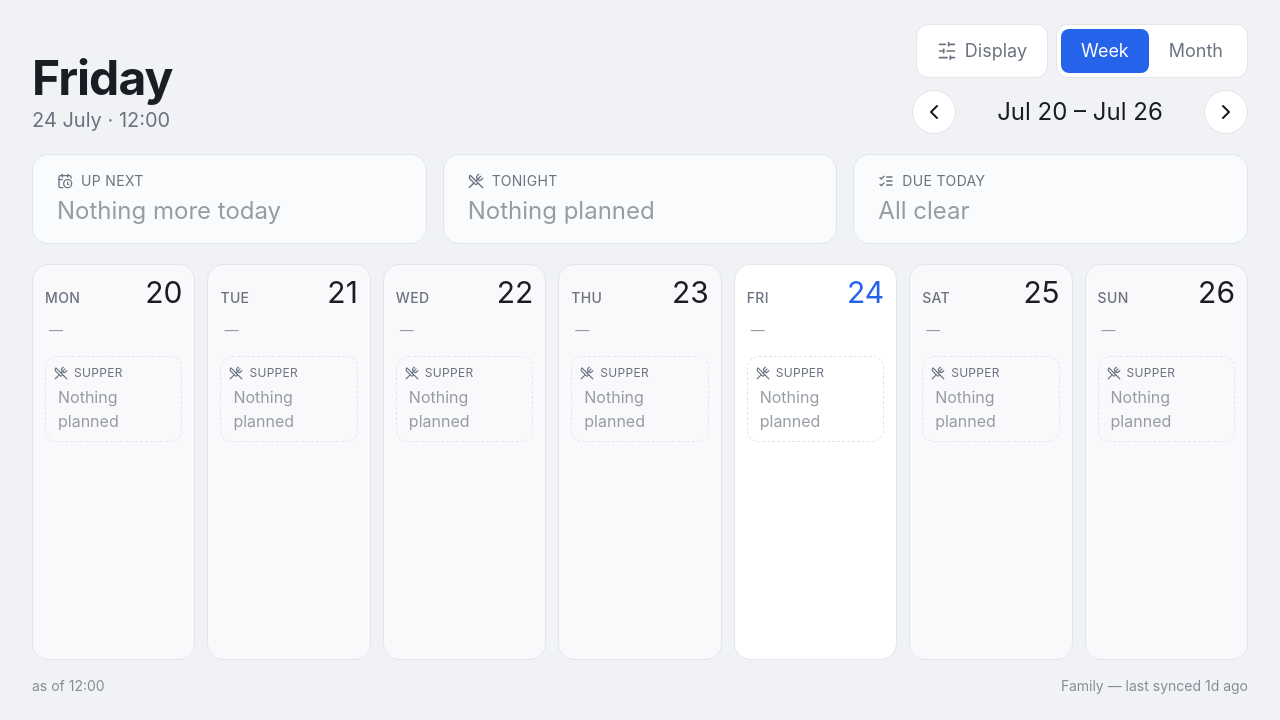
Test: HearthPage display settings modal › footer toggle hides stale notes but keeps the "as of" stamp
The image size is (1280, 720).
expect the text "Family — last synced 1d ago" is shown: met, box [1061,676,1248,696]
What coordinates should you click on to do the following:
click the button "Display"
I would click on:
 (982, 51)
Its box is [916,24,1048,78].
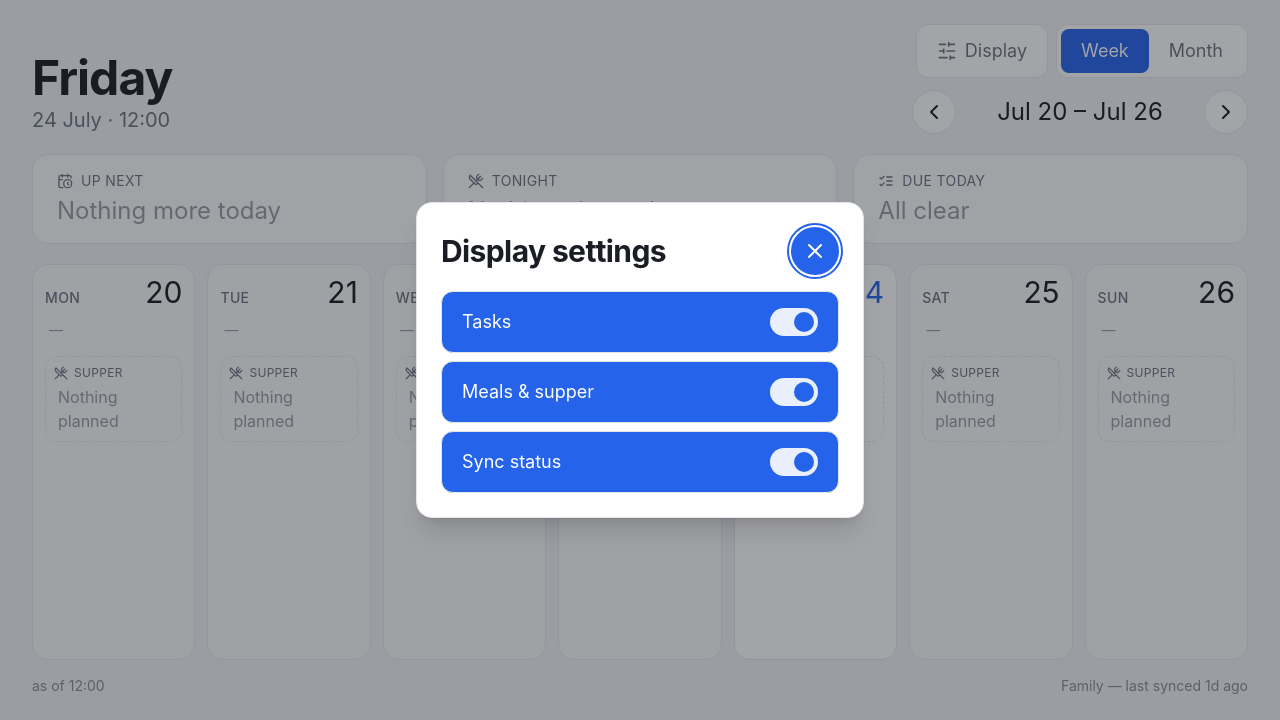
What coordinates should you click on to do the following:
click the button "Sync status"
I would click on:
 (512, 462)
Its box is [441,431,839,493].
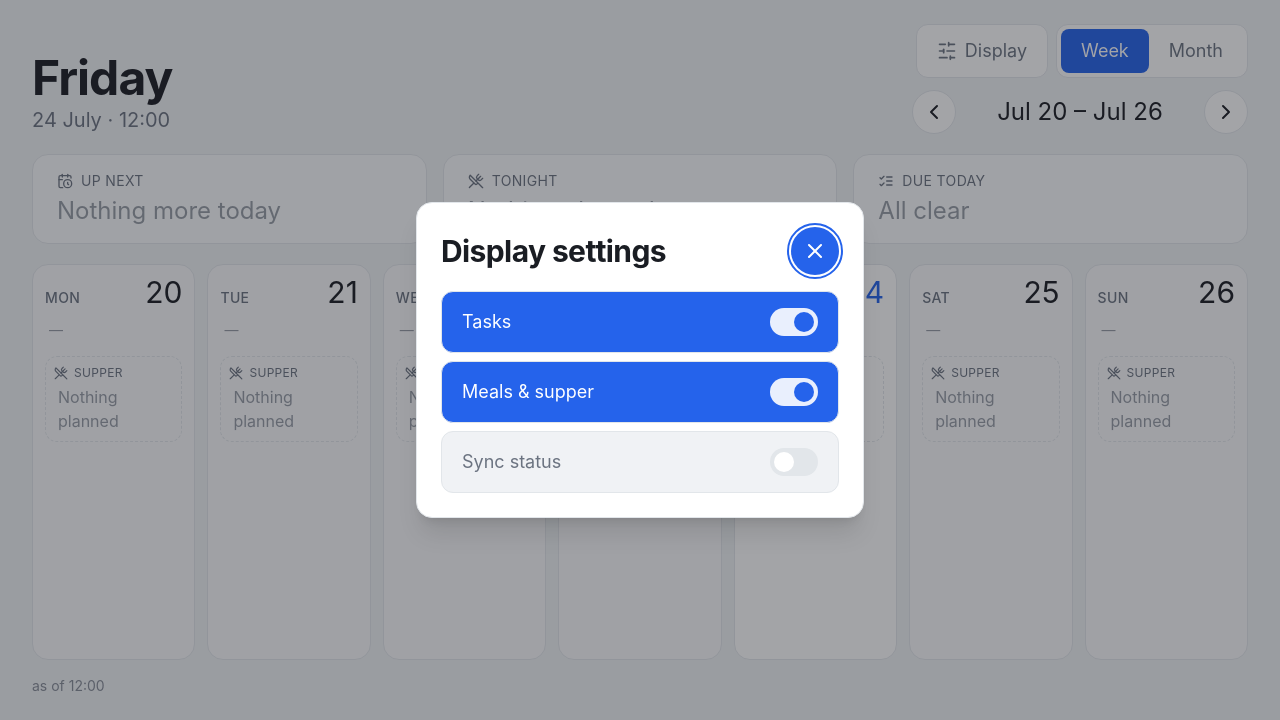
expect the text "as of 12:00" is shown: met, box [32,676,105,696]
expect the text "last synced" is gone: met
